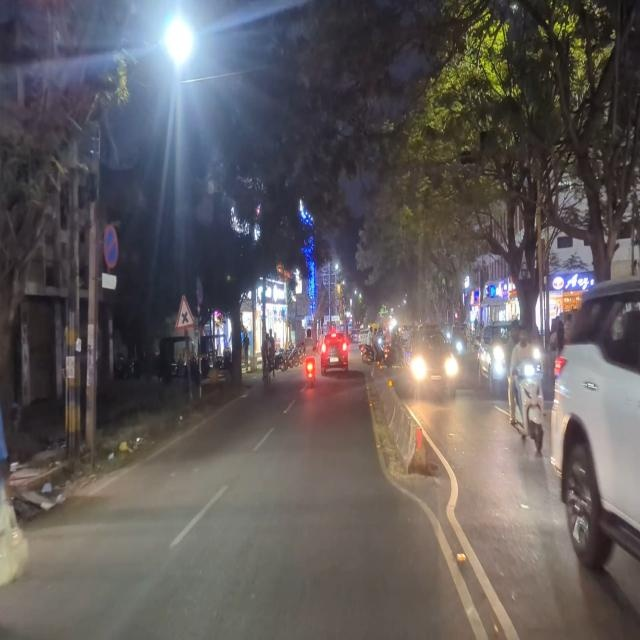bien_nguy_hiem: (173, 292, 196, 330), (102, 222, 120, 270)
